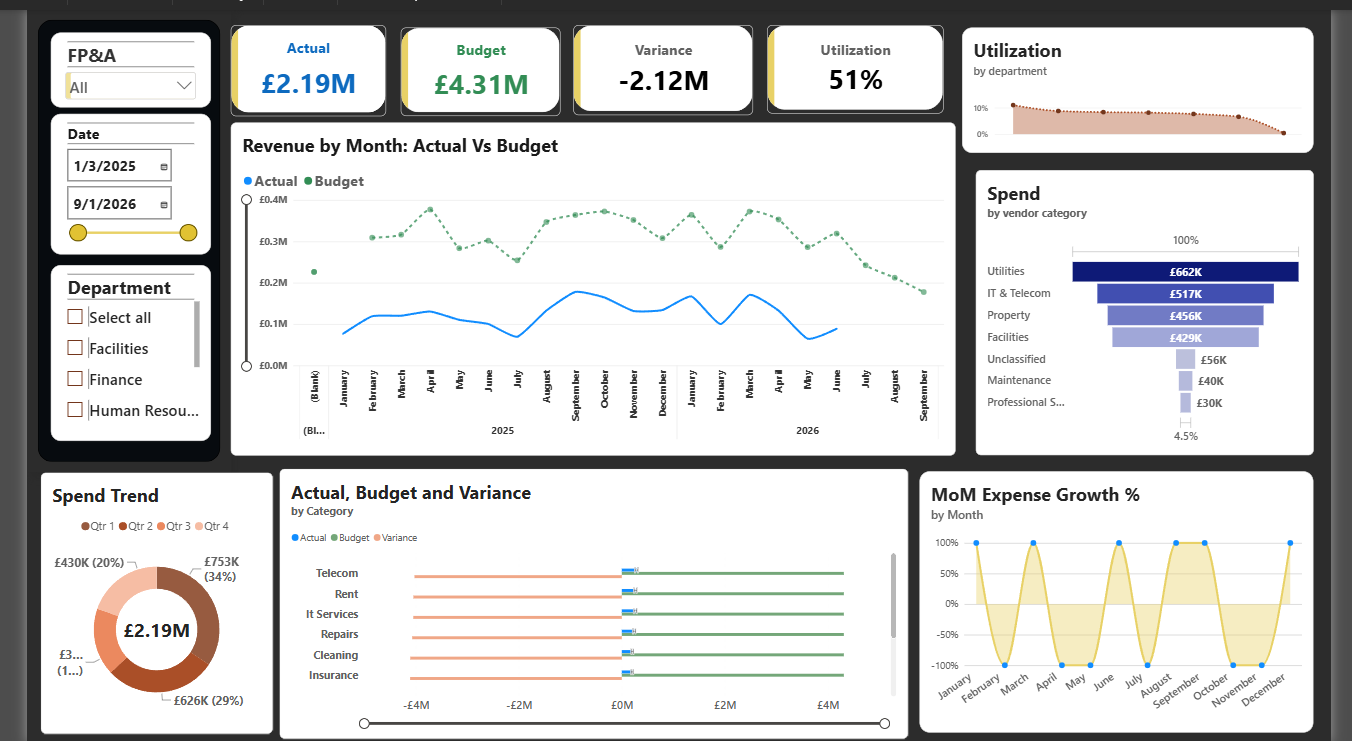

Layout of this report page (visuals, bound fields, positions):
{"tool":"powerbi","page":{"name":"Financial Planning & Analysis (FP&A) Dashboard ","canvas":[1920,1080],"ordinal":0},"visuals":[{"type":"cardVisual","fields":{"Data":["invoices.Total Budget"]},"box":[550,25,235,130],"z":0},{"type":"cardVisual","fields":{"Data":["invoices.Total invoiced spend"]},"box":[300,25,230,130],"z":1000},{"type":"cardVisual","fields":{"Data":["invoices.Budget Variance"]},"box":[805,22.5,265,132.5],"z":2000},{"type":"cardVisual","fields":{"Data":["invoices.Budget Utilization %"]},"box":[1090,22.5,260,130],"z":3000},{"type":"stackedAreaChart","title":"Revenue by Month: Actual Vs Budget","fields":{"Category":["Calendar.Date.Variation.Date Hierarchy.Year","Calendar.Date.Variation.Date Hierarchy.Month"],"Y":["invoices.Actual","invoices.Budget"]},"box":[300,165,1067.5,490],"z":4000},{"type":"slicer","fields":{"Values":["invoices.expense_category"]},"box":[17.5,25,265,110],"z":5000},{"type":"slicer","fields":{"Values":["Calendar.Date"]},"box":[20,150,262.5,207.5],"z":7000},{"type":"slicer","fields":{"Values":["invoices.department"]},"box":[20,367.5,262.5,287.5],"z":7500},{"type":"donutChart","title":"Spend Trend ","fields":{"Category":["Calendar.Date.Variation.Date Hierarchy.Quarter"],"Y":["invoices.Actual"]},"box":[20,680,305,385],"z":8000},{"type":"clusteredBarChart","fields":{"Category":["invoices.expense_category"],"Y":["invoices.Actual","invoices.Budget","invoices.Variance"]},"box":[350,667.5,942.5,397.5],"z":9000},{"type":"funnel","fields":{"Category":["vendors.vendor_category"],"Y":["invoices.Actual"]},"box":[1397.5,235,497.5,420],"z":10000},{"type":"hundredPercentStackedAreaChart","fields":{"Category":["Calendar.Date.Variation.Date Hierarchy.Month"],"Y":["invoices.MoM Expense Growth %"]},"box":[1315,680,580,385],"z":11000},{"type":"stackedAreaChart","fields":{"Category":["invoices.department"],"Y":["invoices.Utilization"]},"box":[1377.5,25,517.5,185],"z":13000}]}

Visuals, with their boxes in screenshot pixels (x1, y1, x2, y2), scaled from the page's 1920x1080 canvas onto the 1352x741 screenshot:
cardVisual - invoices.Total Budget: crop(387, 17, 553, 106)
cardVisual - invoices.Total invoiced spend: crop(211, 17, 373, 106)
cardVisual - invoices.Budget Variance: crop(567, 15, 753, 106)
cardVisual - invoices.Budget Utilization %: crop(768, 15, 951, 105)
"Revenue by Month: Actual Vs Budget" stackedAreaChart: crop(211, 113, 963, 449)
slicer - invoices.expense_category: crop(12, 17, 199, 93)
slicer - Calendar.Date: crop(14, 103, 199, 245)
slicer - invoices.department: crop(14, 252, 199, 449)
"Spend Trend " donutChart: crop(14, 467, 229, 731)
clusteredBarChart - invoices.expense_category x invoices.Actual: crop(246, 458, 910, 731)
funnel - vendors.vendor_category x invoices.Actual: crop(984, 161, 1334, 449)
hundredPercentStackedAreaChart - Calendar.Date.Variation.Date Hierarchy.Month x invoices.MoM Expense Growth %: crop(926, 467, 1334, 731)
stackedAreaChart - invoices.department x invoices.Utilization: crop(970, 17, 1334, 144)
